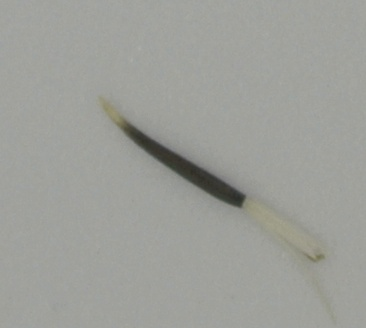เมล็ดดีเรียวยาว: (98, 100, 328, 264)
